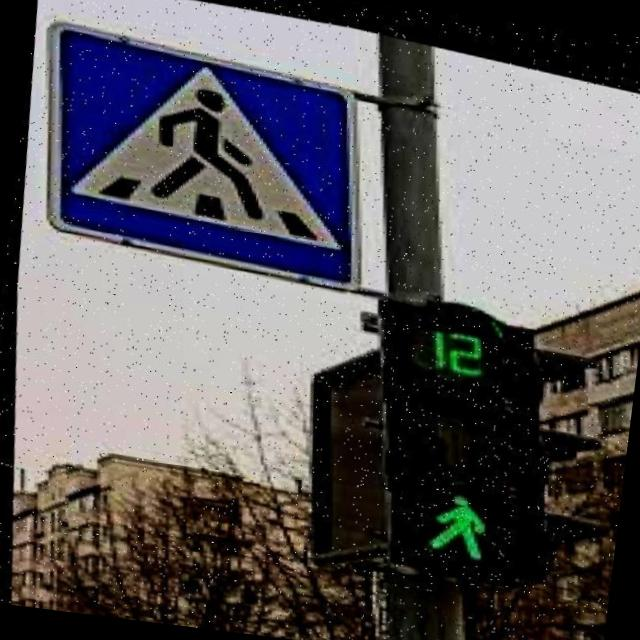green_light: (380, 300, 517, 559)
